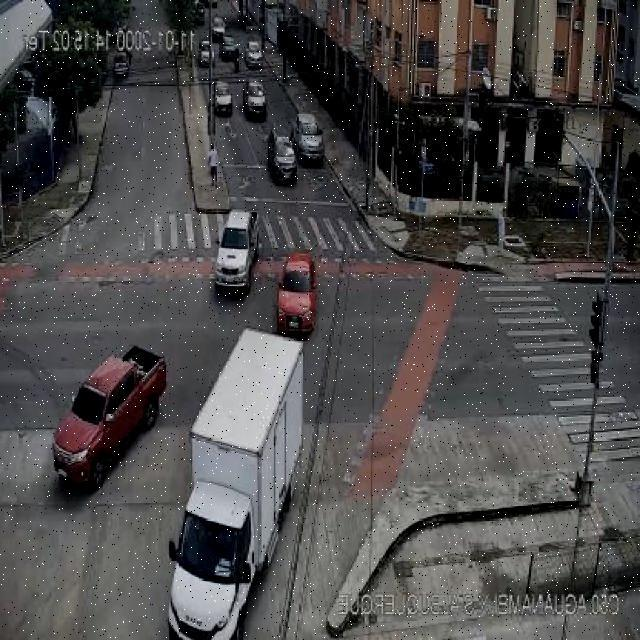Car: (213, 210, 260, 294), (276, 252, 318, 335), (266, 128, 297, 184), (292, 114, 325, 164), (242, 81, 267, 119), (213, 80, 233, 116), (14, 68, 36, 96), (244, 40, 264, 68), (220, 36, 240, 62), (113, 52, 131, 78), (197, 40, 214, 67), (233, 9, 253, 30), (211, 16, 226, 42)
Truck: (157, 322, 308, 640), (50, 338, 176, 484)
